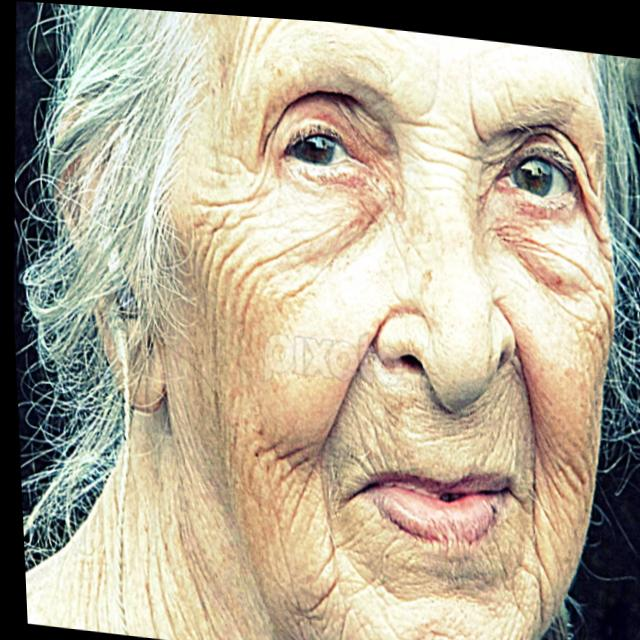Wrinkles: (173, 12, 398, 640), (511, 209, 607, 614), (101, 434, 238, 640)
